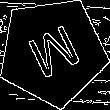M_SE: (21, 19, 84, 84)
